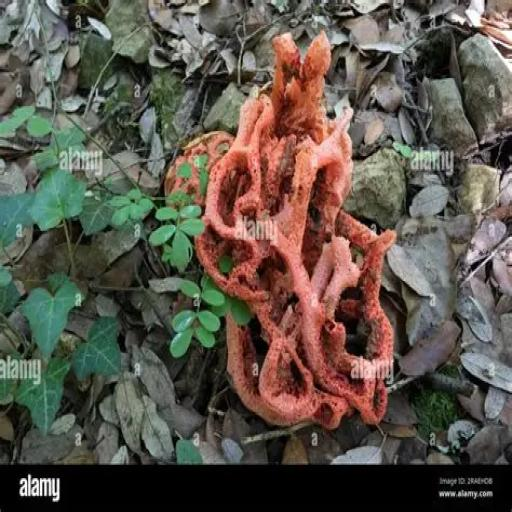Red Cage Fungus: (194, 25, 405, 443), (156, 129, 240, 240)
